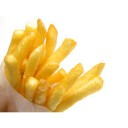frenchfries: (7, 18, 104, 106)
